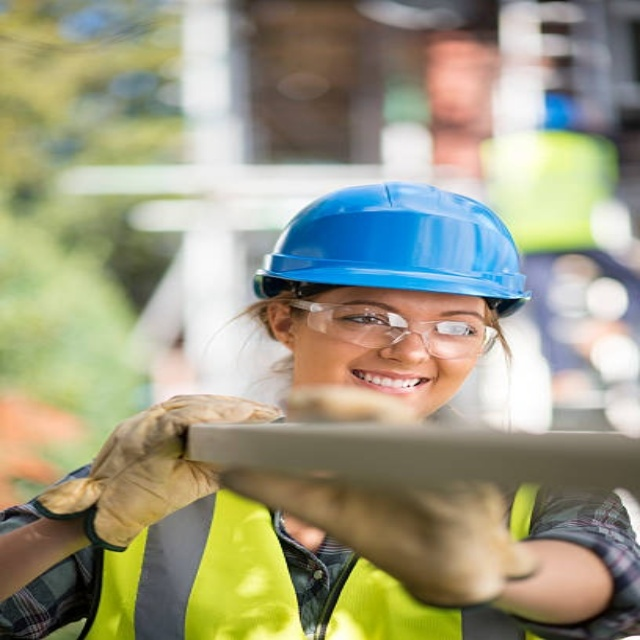Gafas: (284, 300, 501, 359)
Guantes: (35, 393, 287, 552), (287, 468, 527, 608)
Sin_mascara: (342, 363, 438, 403)
